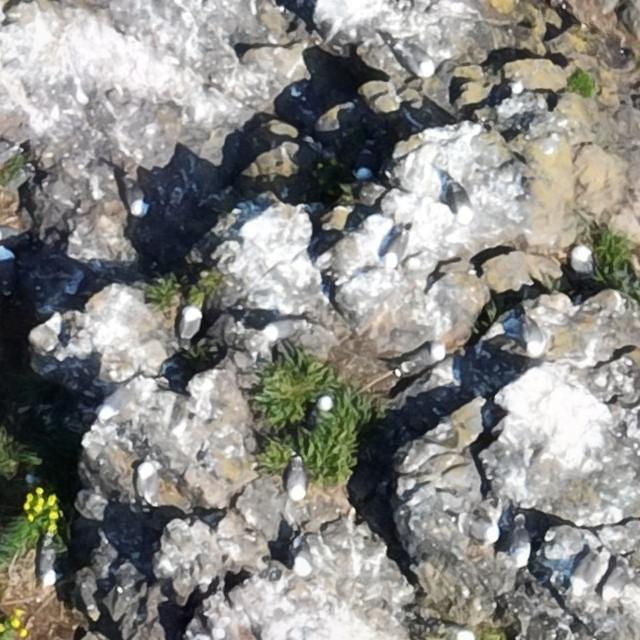umineko: (390, 35, 436, 84), (452, 514, 510, 545), (36, 535, 64, 594), (572, 246, 598, 295), (1, 243, 22, 295), (401, 346, 441, 367), (136, 463, 154, 501), (263, 321, 300, 339), (124, 182, 144, 215), (287, 461, 304, 498), (181, 306, 200, 338), (386, 234, 406, 261), (449, 186, 466, 215), (294, 542, 308, 572), (357, 153, 372, 178), (314, 395, 332, 413), (0, 140, 13, 160)
